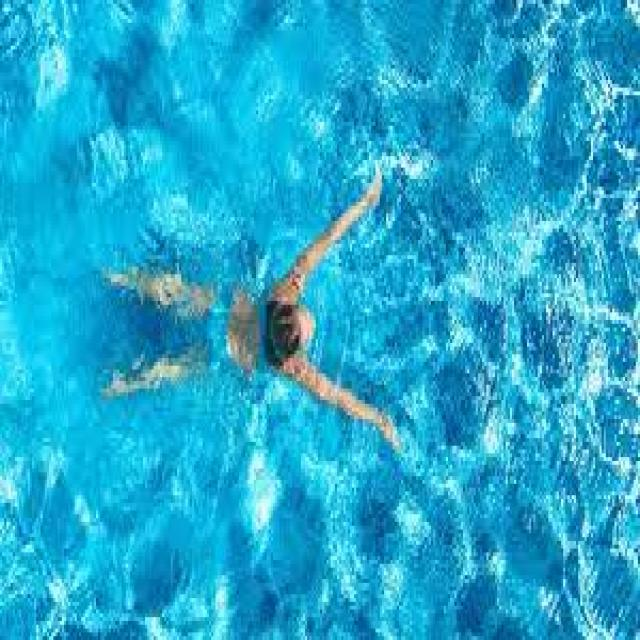Swimming: (96, 178, 398, 441)
